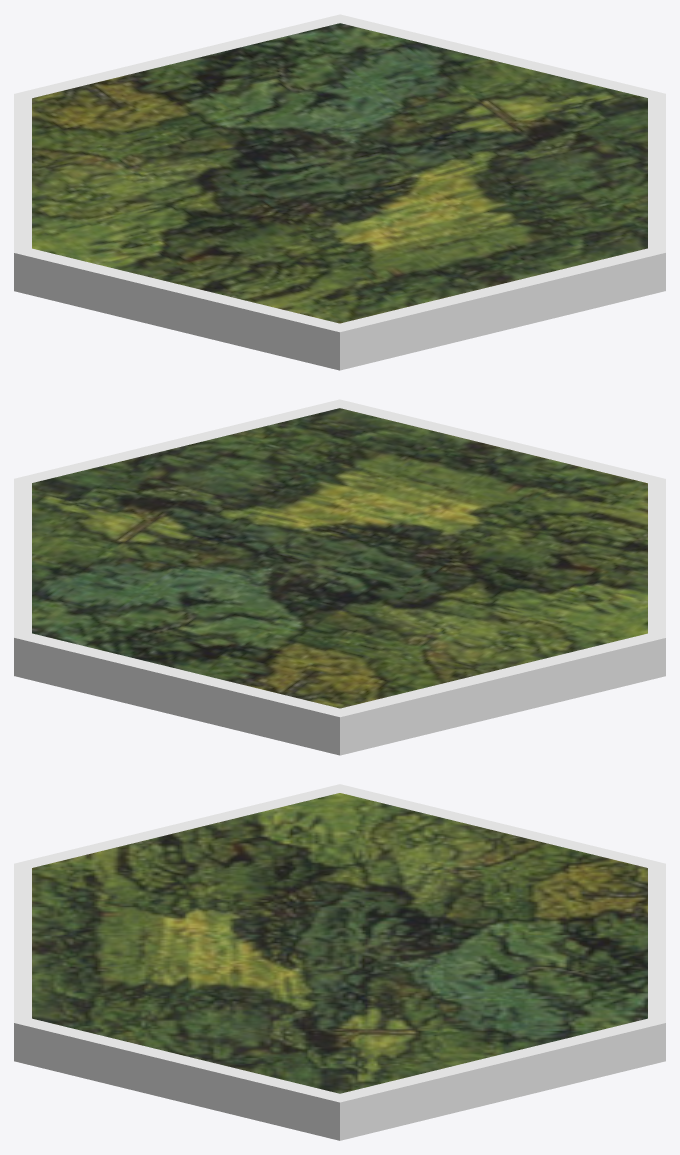
Rendered from hex_wood.glb.
The picture shows the model from 3 angles, top to bottom: view 1: azimuth 30°, elevation 25°; view 2: azimuth 150°, elevation 25°; view 3: azimuth 270°, elevation 25°; orthographic projection.
Visible parts, largest first — view 1: hex_wood; view 2: hex_wood; view 3: hex_wood.
Boxes of the visible parts, x1,y1,x2,y2 form: hex_wood: (14,14,665,370); hex_wood: (14,399,665,755); hex_wood: (14,784,665,1140).
Size of the model in its own units: 0.089 by 0.005 by 0.077.
2 materials, 1 textured.
